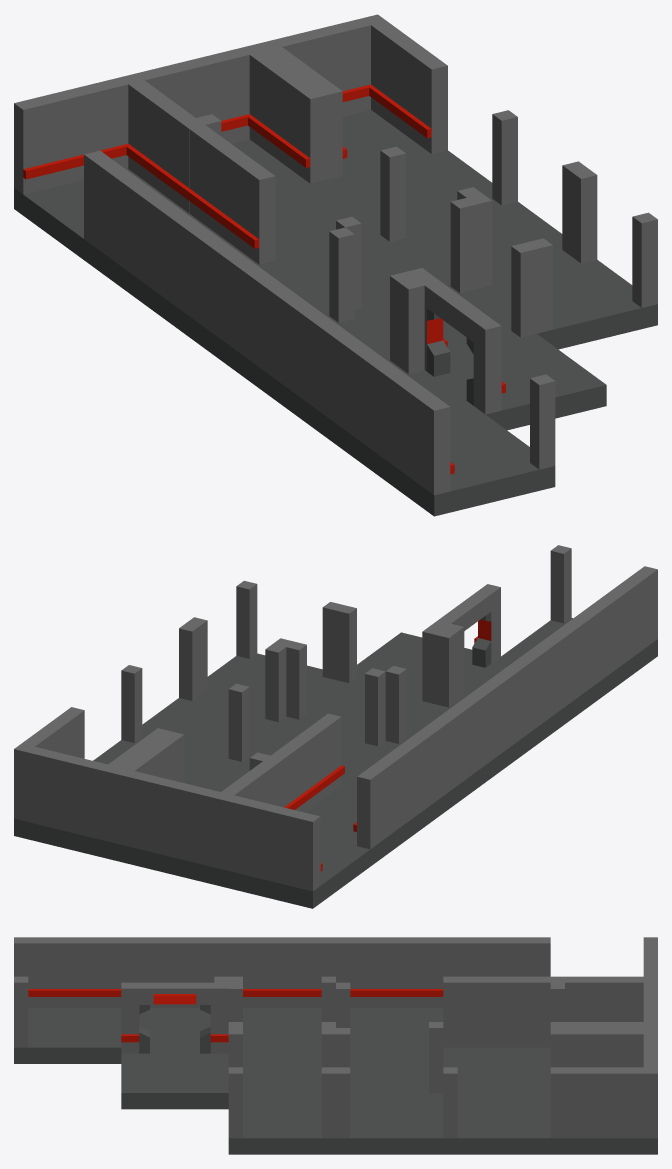
File: LabratoryTileset.glb
3 views of the same model, one above another, from view 1: azimuth 30°, elevation 25°; view 2: azimuth 150°, elevation 25°; view 3: azimuth 270°, elevation 25° (orthographic). The views are drawn at different scales.
Visible parts, largest first — view 1: Corner-col, Wall1PillarB-col, End-col, Hall-col, Floor4Pillar-col, CornerPillar-col, BlastDoorframe-col, Wall2Pillar-col, Wall1PillarA-col, Wall-col, Floor2DiagonalPillar-col, Floor1Pillar-col (+3 smaller); view 2: Corner-col, Hall-col, End-col, CornerPillar-col, Wall2Pillar-col, Wall1PillarB-col, Wall1PillarA-col, Floor2Pillar-col, Floor3Pillar-col, Wall-col, Floor4Pillar-col, Floor2DiagonalPillar-col (+3 smaller); view 3: End-col, Wall1PillarB-col, Hall-col, BlastDoorframe-col, Wall-col, Wall2Pillar-col, Floor4Pillar-col, Floor2Pillar-col, Wall1PillarA-col, Floor1Pillar-col, Floor2DiagonalPillar-col, Floor-col (+3 smaller).
Part boxes in pixels (x1=…): Corner-col: x1=14, y1=73, x2=204, y2=259; Wall1PillarB-col: x1=364, y1=355, x2=555, y2=516; End-col: x1=257, y1=14, x2=447, y2=179; Hall-col: x1=84, y1=125, x2=275, y2=310; Floor4Pillar-col: x1=467, y1=168, x2=657, y2=349; CornerPillar-col: x1=135, y1=44, x2=326, y2=192; BlastDoorframe-col: x1=416, y1=274, x2=606, y2=430; Wall2Pillar-col: x1=224, y1=227, x2=414, y2=413; Wall1PillarA-col: x1=294, y1=278, x2=484, y2=464; Wall-col: x1=154, y1=202, x2=329, y2=362; Floor2DiagonalPillar-col: x1=275, y1=146, x2=450, y2=309; Floor1Pillar-col: x1=327, y1=110, x2=517, y2=228; Corner-col: x1=213, y1=755, x2=370, y2=908; Hall-col: x1=271, y1=713, x2=427, y2=866; End-col: x1=14, y1=707, x2=170, y2=860; CornerPillar-col: x1=113, y1=731, x2=270, y2=884; Wall2Pillar-col: x1=385, y1=629, x2=542, y2=782; Wall1PillarB-col: x1=501, y1=545, x2=657, y2=697; Wall1PillarA-col: x1=444, y1=608, x2=600, y2=739; Floor2Pillar-col: x1=142, y1=623, x2=286, y2=758; Floor3Pillar-col: x1=286, y1=605, x2=442, y2=735; Wall-col: x1=341, y1=692, x2=485, y2=824; Floor4Pillar-col: x1=187, y1=580, x2=342, y2=711; Floor2DiagonalPillar-col: x1=228, y1=668, x2=385, y2=770; End-col: x1=550, y1=1028, x2=657, y2=1154; Wall1PillarB-col: x1=14, y1=937, x2=121, y2=1063; Hall-col: x1=443, y1=937, x2=550, y2=1047; BlastDoorframe-col: x1=121, y1=982, x2=228, y2=1109; Wall-col: x1=336, y1=937, x2=443, y2=1047; Wall2Pillar-col: x1=228, y1=937, x2=335, y2=1047; Floor4Pillar-col: x1=228, y1=1028, x2=335, y2=1154; Floor2Pillar-col: x1=336, y1=1028, x2=443, y2=1154; Wall1PillarA-col: x1=121, y1=937, x2=228, y2=1047; Floor1Pillar-col: x1=443, y1=1067, x2=550, y2=1154; Floor2DiagonalPillar-col: x1=336, y1=982, x2=443, y2=1092; Floor-col: x1=443, y1=1047, x2=550, y2=1092.
Size of the model in its own units: 18 by 5 by 36.
